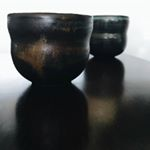cups: (5, 10, 96, 90)
